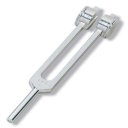Fork: (11, 9, 115, 112)
